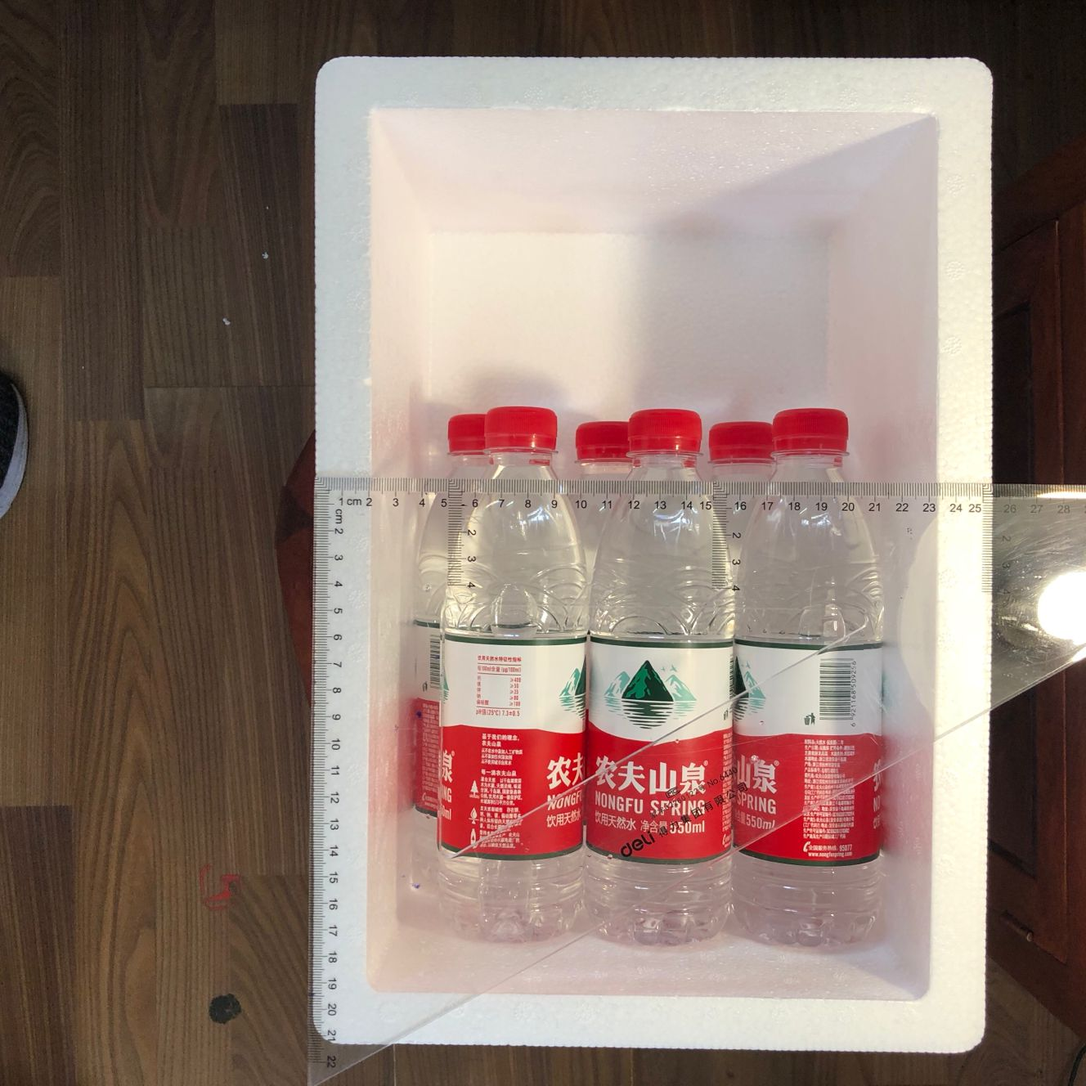泡沫箱: (312, 59, 992, 1068)
